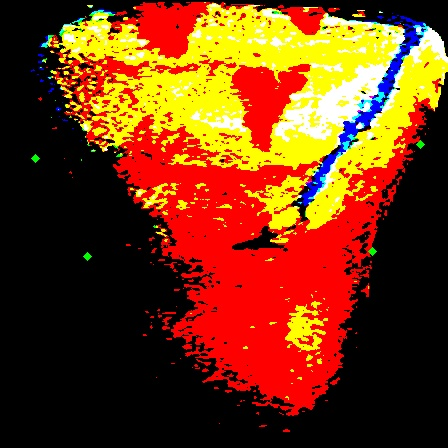coin_1: (87, 256, 107, 276)
coin_2: (35, 158, 55, 178)
coin_3: (372, 251, 392, 271)
coin_4: (420, 144, 440, 164)
